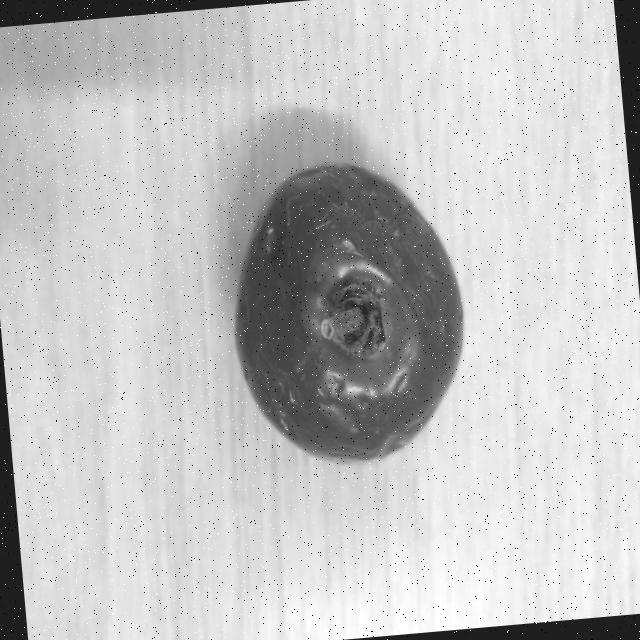Rotten: (220, 155, 473, 469)
